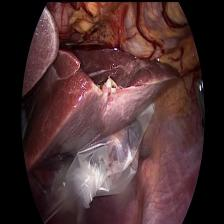Specimen Bag: (46, 98, 159, 224)
